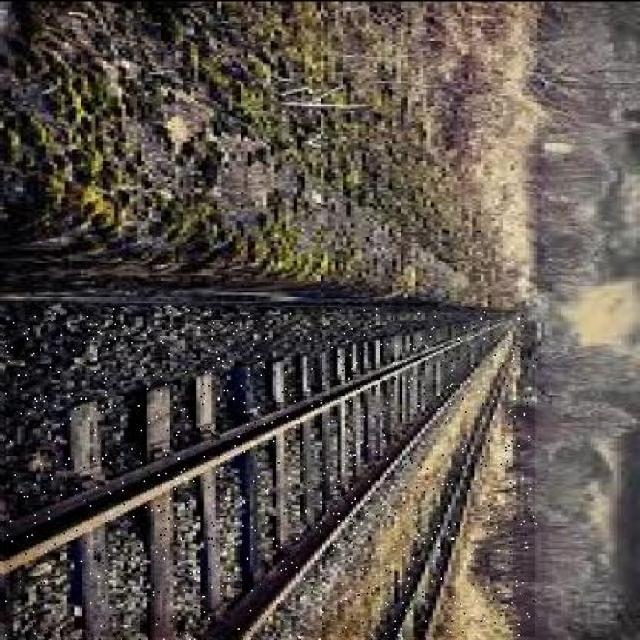rail: (5, 308, 536, 638)
